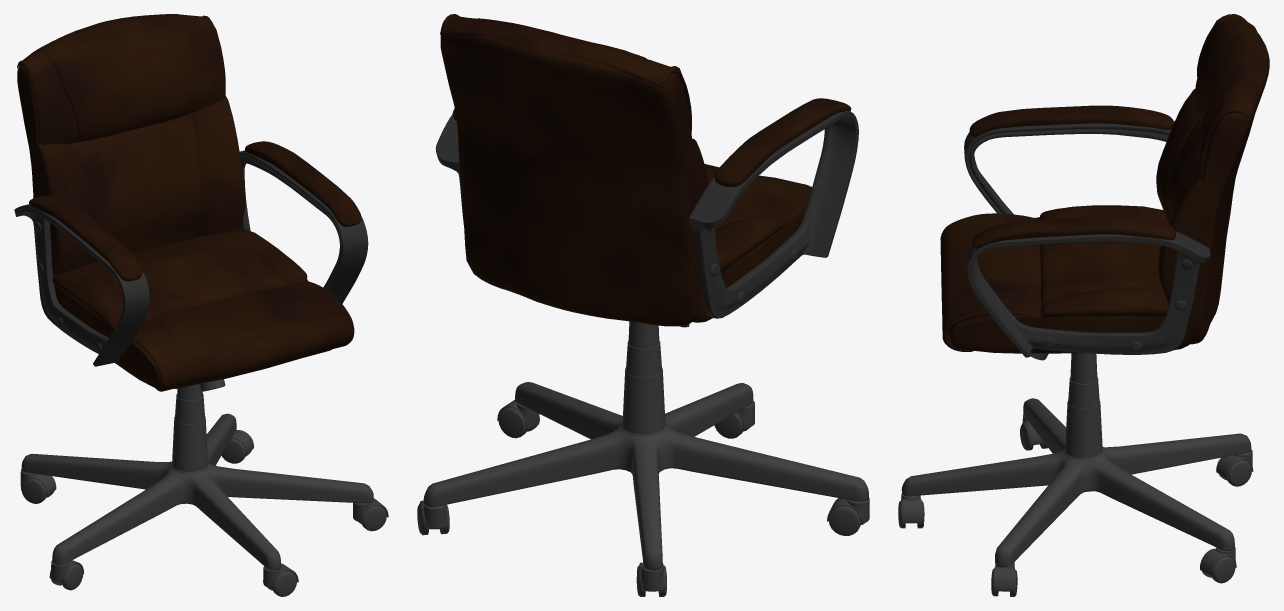
Rendered from abo-B0735WMNT5.glb.
3 views of the same model, side by side, from view 1: azimuth 30°, elevation 25°; view 2: azimuth 150°, elevation 25°; view 3: azimuth 270°, elevation 25° (orthographic). The views are drawn at different scales.
Bounding box in the file's own units: 0.739 × 1 × 0.717.
Materials: 1 (1 with a texture image).
